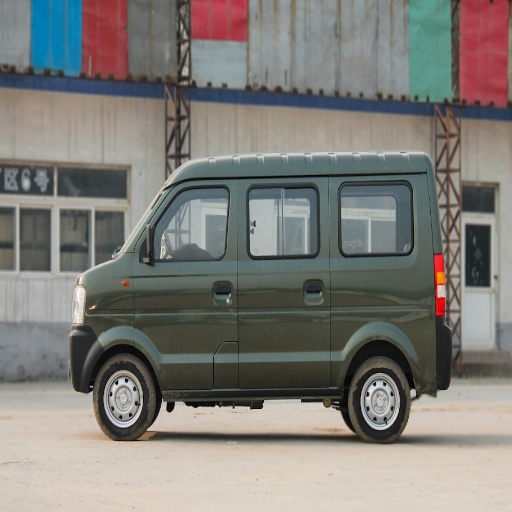back_left_door: (236, 180, 329, 383)
trunk: (340, 259, 440, 387)
